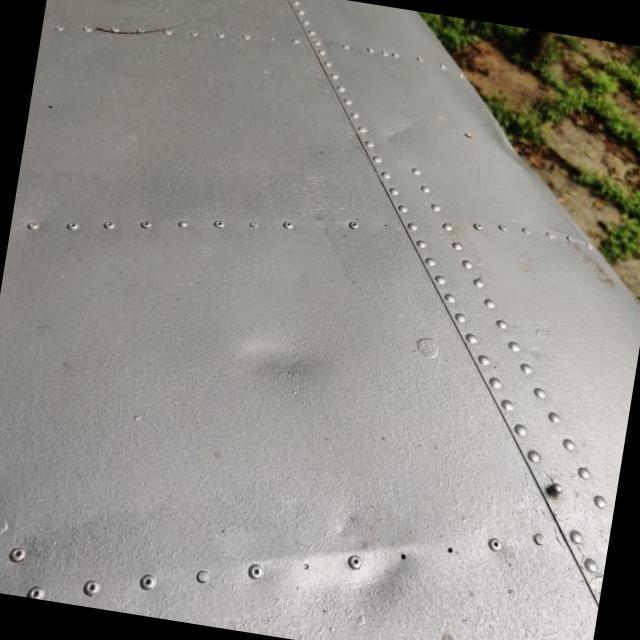Dent: (284, 484, 442, 638), (197, 282, 351, 422)
